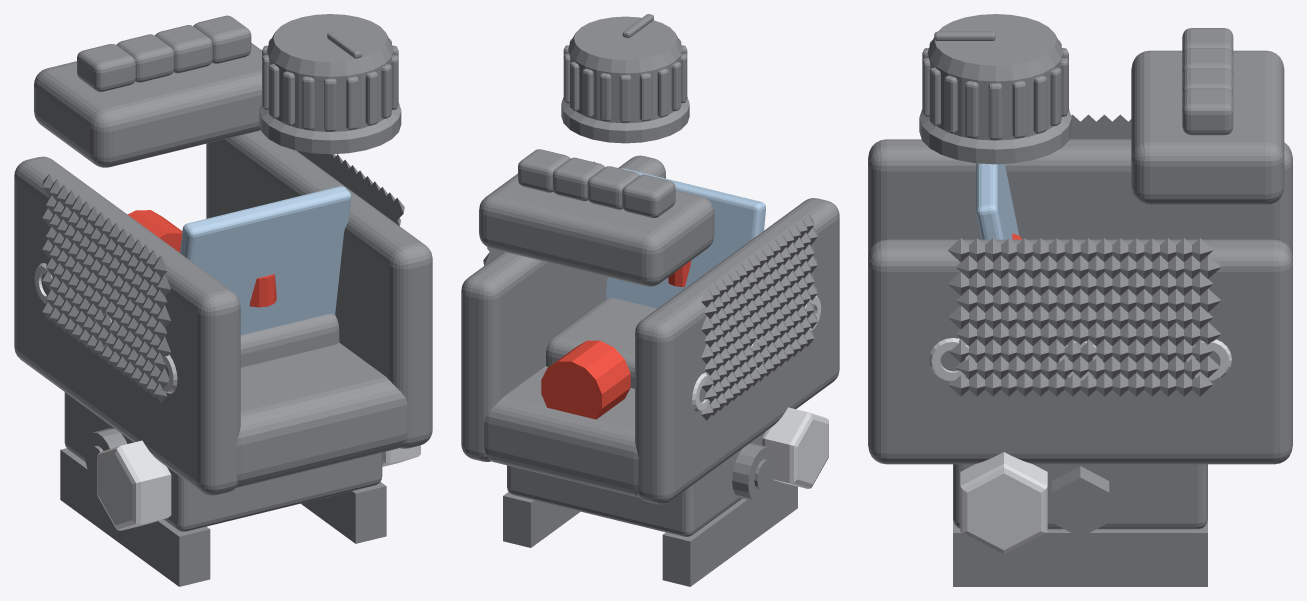
The model's file is mod-carbine-optic-33365.glb.
3 renders of one model, left to right at view 1: azimuth 30°, elevation 25°; view 2: azimuth 150°, elevation 25°; view 3: azimuth 270°, elevation 25°, orthographic. The views are drawn at different scales.
Bounding box in the file's own units: 0.8352 × 1.38 × 0.9943.
